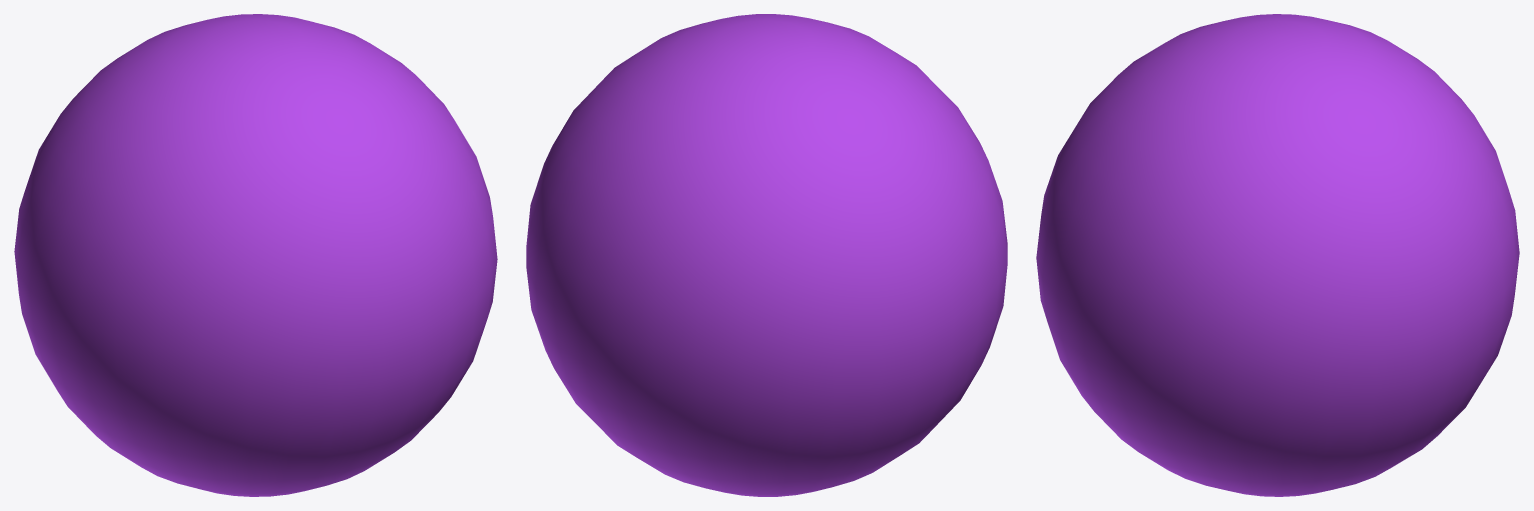
File: ballPong.glb
The picture shows the model from 3 angles, left to right: view 1: azimuth 30°, elevation 25°; view 2: azimuth 150°, elevation 25°; view 3: azimuth 270°, elevation 25°; orthographic projection.
Parts seen in each view (by area): view 1: BallPong; view 2: BallPong; view 3: BallPong.
Part boxes in pixels (x1,y1,x2,y2): BallPong: (14,14,497,496); BallPong: (526,14,1007,496); BallPong: (1036,14,1519,496).
Bounding box in the file's own units: 2.4 × 2.4 × 2.4.
